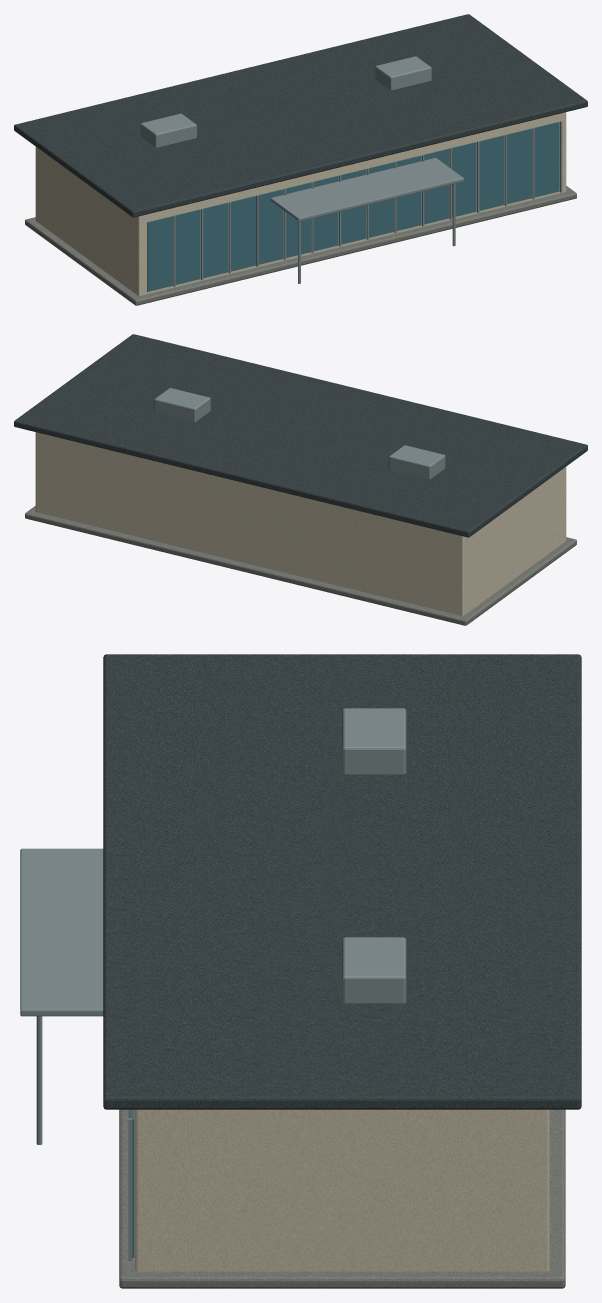
The model's file is RegionalTerminal_32x14_LOD0.glb.
3 renders of one model, top to bottom at view 1: azimuth 30°, elevation 25°; view 2: azimuth 150°, elevation 25°; view 3: azimuth 270°, elevation 25°, orthographic. The views are drawn at different scales.
Visible parts, largest first — view 1: RegionalTerminal_32x14_export; view 2: RegionalTerminal_32x14_export; view 3: RegionalTerminal_32x14_export.
Boxes of the visible parts, x1,y1,x2,y2 form: RegionalTerminal_32x14_export: (14, 14, 587, 305); RegionalTerminal_32x14_export: (14, 334, 587, 625); RegionalTerminal_32x14_export: (20, 654, 581, 1288).
Size of the model in its own units: 33 by 7.8 by 17.6.
5 materials, 3 textured.
